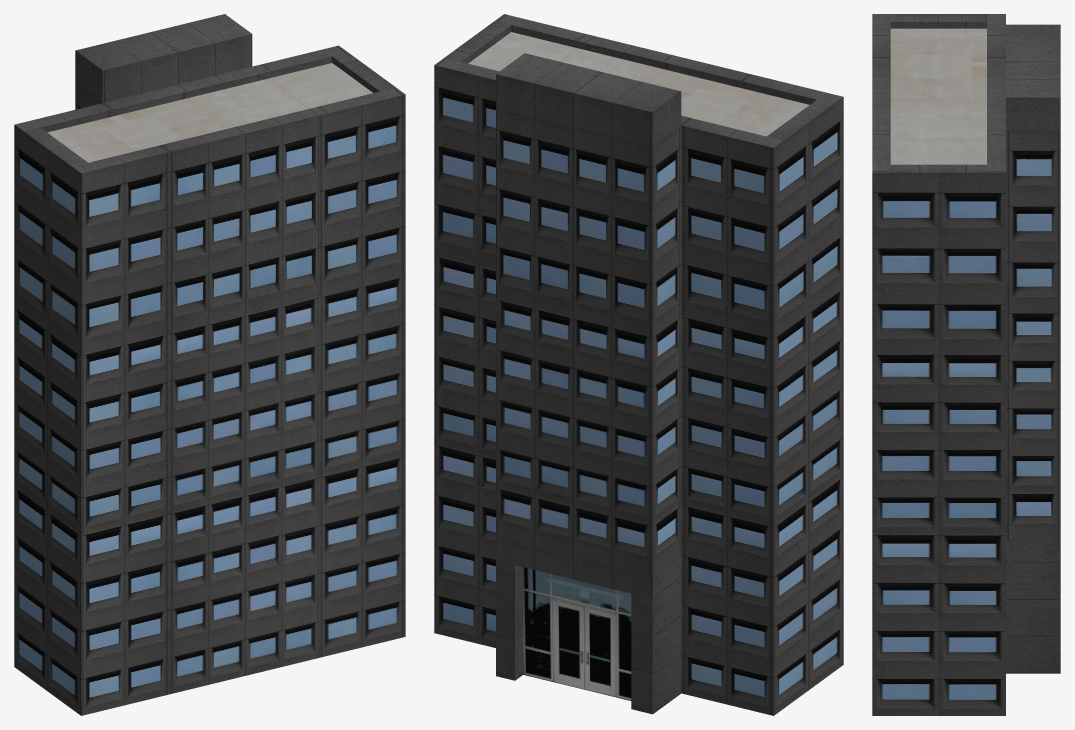
The model's file is Pizza_Delivery house6.fbx.
3 views of the same model, side by side, from view 1: azimuth 30°, elevation 25°; view 2: azimuth 150°, elevation 25°; view 3: azimuth 270°, elevation 25° (orthographic). The views are drawn at different scales.
Parts seen in each view (by area): view 1: Pizza_Delivery:Pizza_Delivery:house6; view 2: Pizza_Delivery:Pizza_Delivery:house6; view 3: Pizza_Delivery:Pizza_Delivery:house6.
Boxes of the visible parts, bbox=[...] form: Pizza_Delivery:Pizza_Delivery:house6: bbox=[14, 14, 405, 715]; Pizza_Delivery:Pizza_Delivery:house6: bbox=[434, 14, 843, 715]; Pizza_Delivery:Pizza_Delivery:house6: bbox=[872, 14, 1060, 715].
Size of the model in its own units: 10.47 by 17.74 by 5.26.
